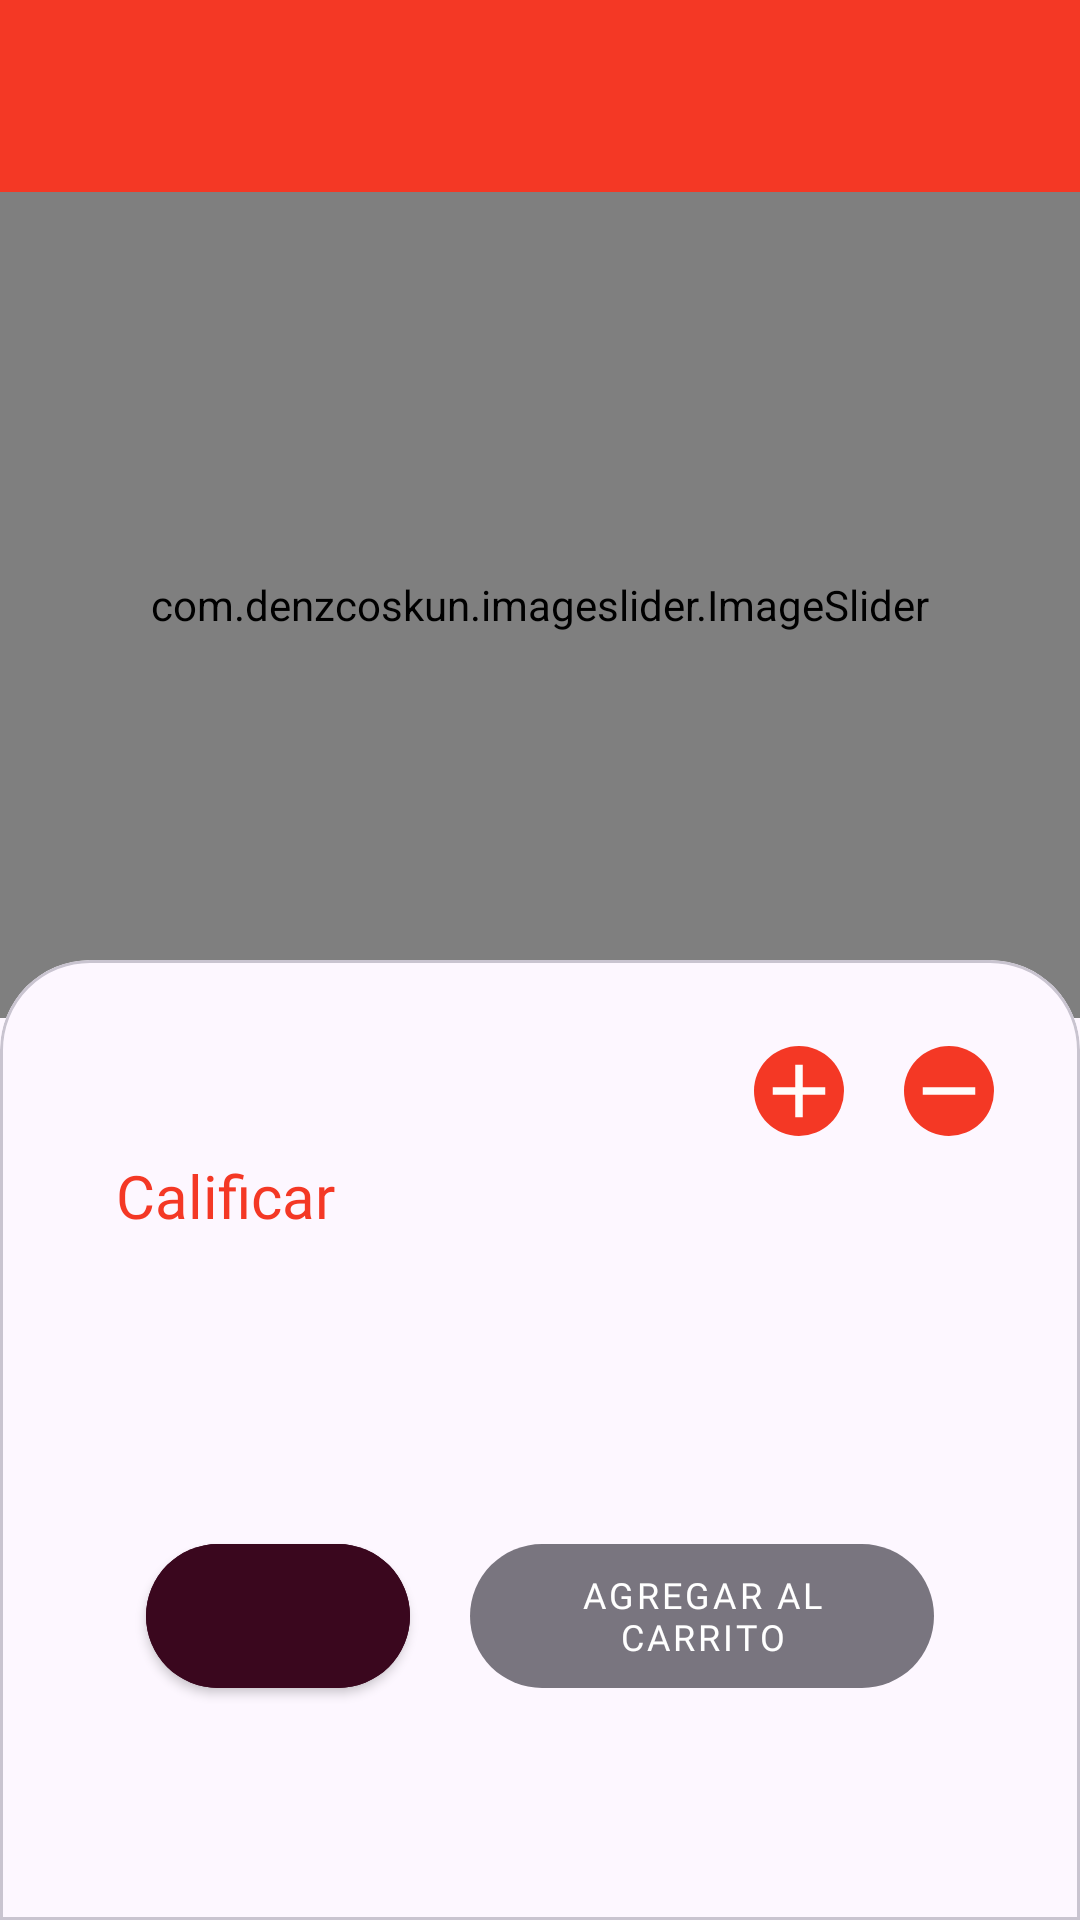

Icons on this 1080 x 1920 Android screen, each with the point to tap as (x,y):
Agregar producto: (799,1091)
Remover producto: (949,1091)
